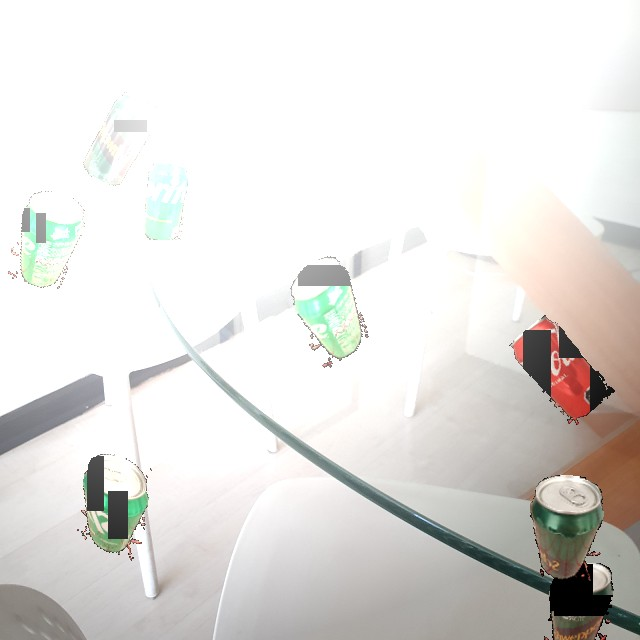coca cola: (506, 312, 615, 427)
schweppes: (77, 88, 163, 191), (526, 474, 604, 582), (544, 563, 619, 640)
sprite: (267, 246, 392, 374), (3, 185, 91, 295), (77, 447, 152, 563), (145, 160, 189, 240)
